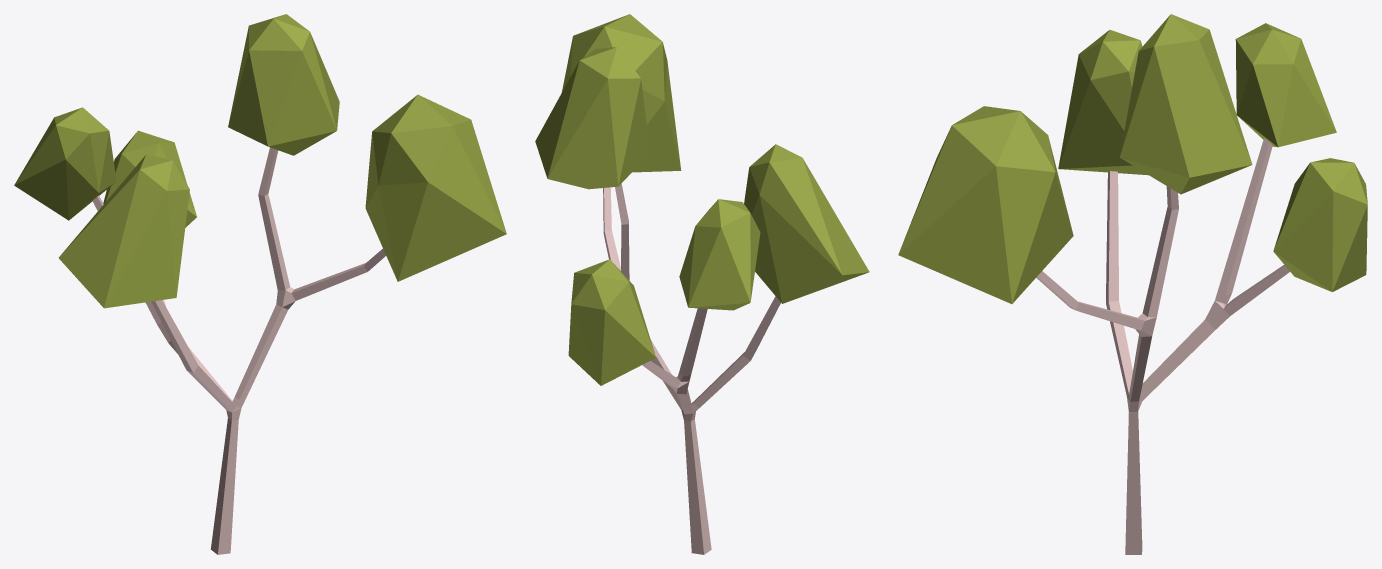
The model's file is small_tree_1.fbx.
3 renders of one model, left to right at view 1: azimuth 30°, elevation 25°; view 2: azimuth 150°, elevation 25°; view 3: azimuth 270°, elevation 25°, orthographic. The views are drawn at different scales.
Parts seen in each view (by area): view 1: Icosphere.003, Icosphere.001, Icosphere.004, wood, Icosphere.002, Icosphere; view 2: Icosphere.001, Icosphere.004, Icosphere, wood, Icosphere.002, Icosphere.003; view 3: Icosphere.003, Icosphere.004, wood, Icosphere, Icosphere.002, Icosphere.001.
Part boxes in pixels (x1,y1,x2,y2): Icosphere.003: (365,94,506,281); Icosphere.001: (58,154,189,308); Icosphere.004: (228,14,339,155); wood: (92,147,385,554); Icosphere.002: (14,107,116,220); Icosphere: (103,130,196,227); Icosphere.001: (744,144,869,303); Icosphere.004: (535,47,649,189); Icosphere: (568,259,655,385); wood: (603,183,780,554); Icosphere.002: (679,199,760,310); Icosphere.003: (561,14,681,172); Icosphere.003: (898,106,1073,303); Icosphere.004: (1119,14,1252,194); wood: (1036,138,1289,554); Icosphere: (1273,158,1367,291); Icosphere.002: (1235,23,1336,147); Icosphere.001: (1058,30,1148,175).
Bounding box in the file's own units: 148 × 149 × 201.
